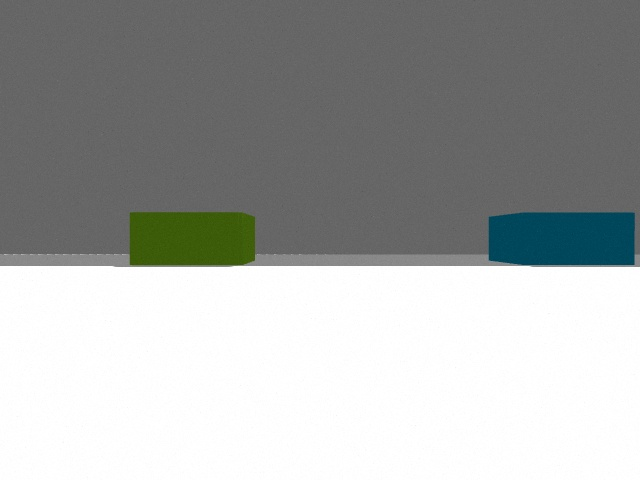blue_drop_zone: (489, 212, 635, 265)
green_drop_zone: (130, 212, 255, 265)
